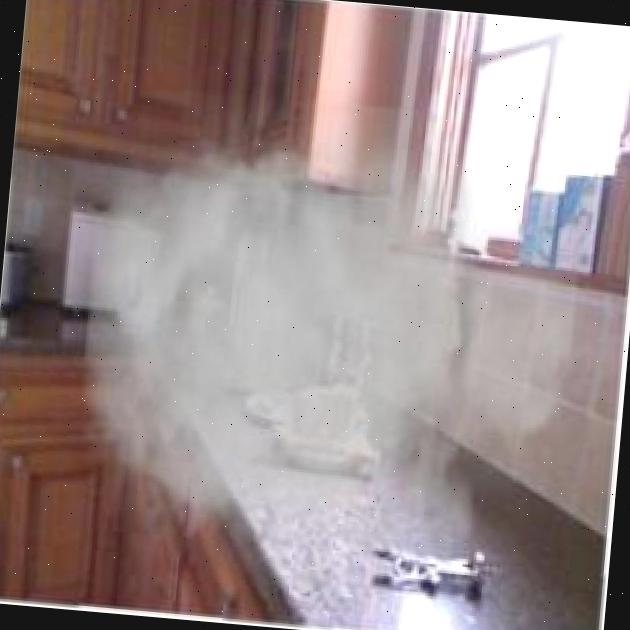smoke: (32, 79, 590, 630)
